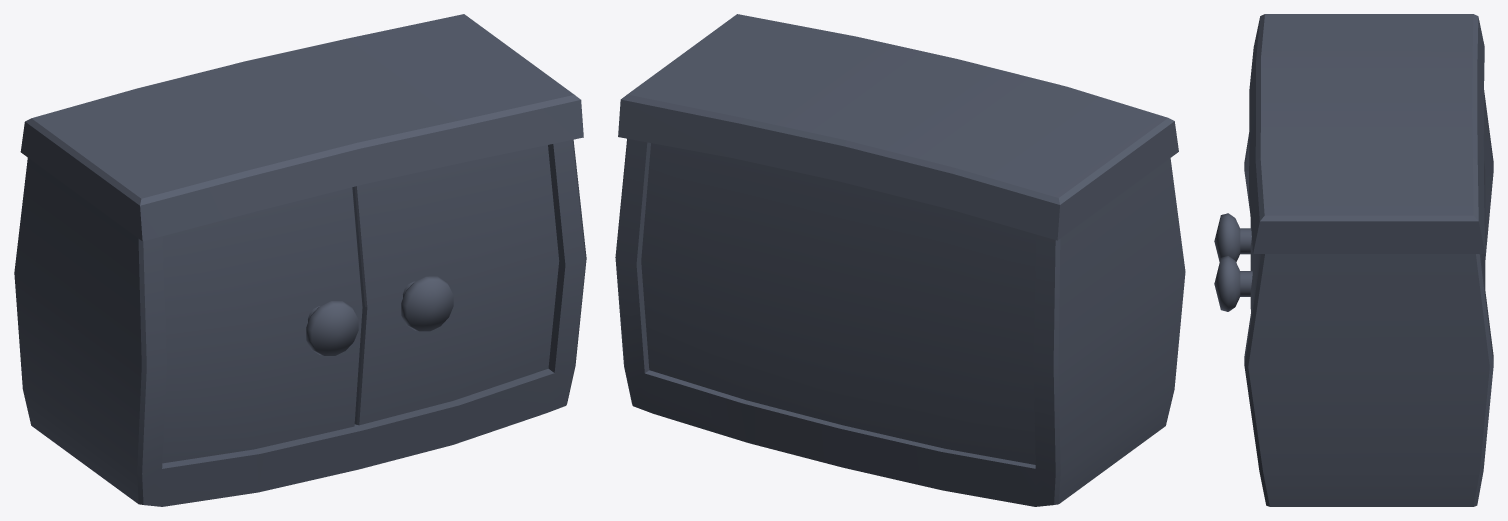
The model's file is KitchenCabinetWall.FBX.
3 renders of one model, left to right at view 1: azimuth 30°, elevation 25°; view 2: azimuth 150°, elevation 25°; view 3: azimuth 270°, elevation 25°, orthographic. The views are drawn at different scales.
Parts seen in each view (by area): view 1: KitchenCabinetWall; view 2: KitchenCabinetWall; view 3: KitchenCabinetWall.
Part boxes in pixels (bbox=[...]): KitchenCabinetWall: bbox=[14, 14, 586, 506]; KitchenCabinetWall: bbox=[615, 14, 1185, 506]; KitchenCabinetWall: bbox=[1214, 14, 1493, 506].
Bounding box in the file's own units: 96.29 × 67.52 × 55.2.
